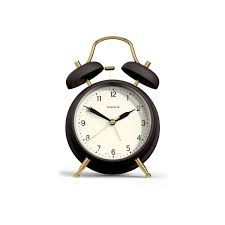alarm_clock: (64, 33, 160, 178)
